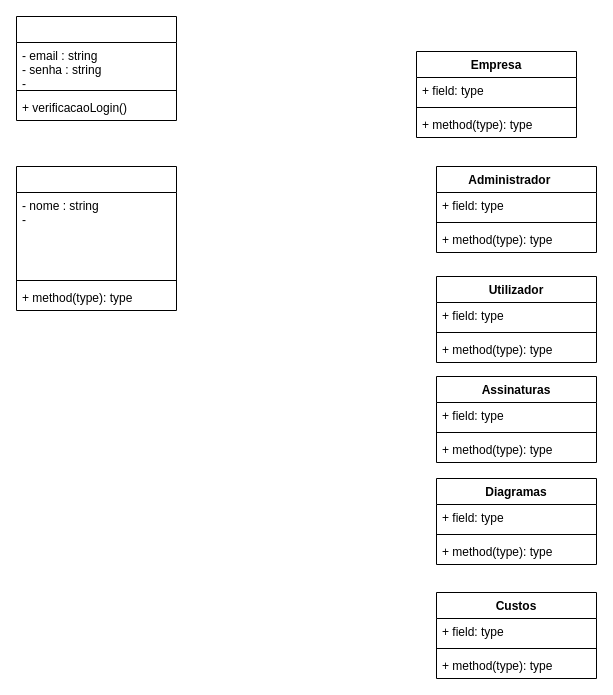
The diagram is 613 pixels wide and 695 high, and some of its shapes have lost their labels. Here are the shapes that lost their labels. From the top down, the box of each, then its label:
(16, 16, 176, 120): Usuario
(16, 166, 176, 310): tipoUsuario
